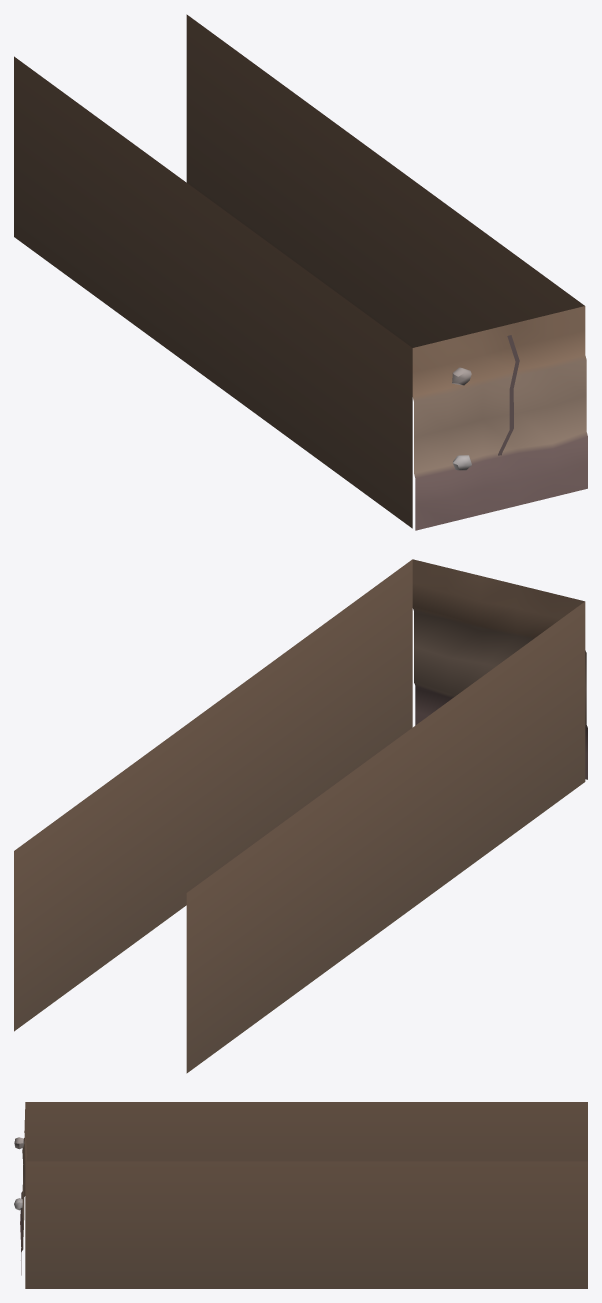
The model's file is groundlite_deep_2.glb.
3 renders of one model, top to bottom at view 1: azimuth 30°, elevation 25°; view 2: azimuth 150°, elevation 25°; view 3: azimuth 270°, elevation 25°, orthographic. The views are drawn at different scales.
Visible parts, largest first — view 1: groundlite_deep_2; view 2: groundlite_deep_2; view 3: groundlite_deep_2.
Part boxes in pixels (left/top/right/bottom): groundlite_deep_2: left=14, top=14, right=587, bottom=530; groundlite_deep_2: left=14, top=559, right=587, bottom=1073; groundlite_deep_2: left=14, top=1102, right=587, bottom=1288.
Size of the model in its own units: 1 by 1 by 4.08.
